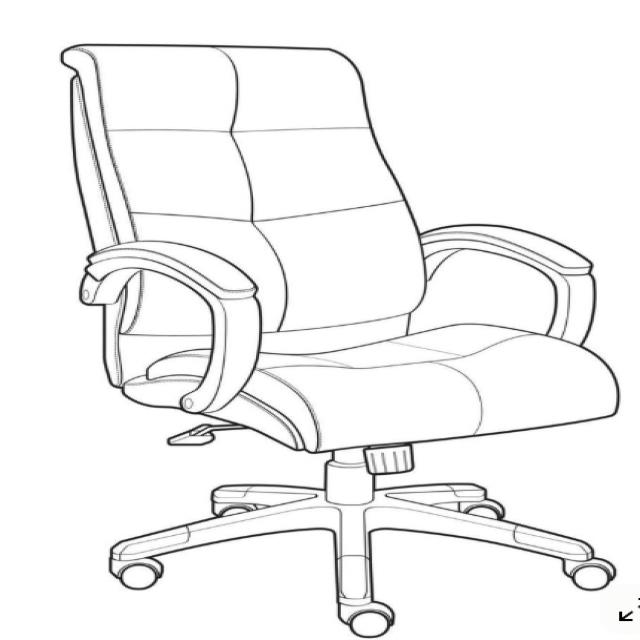5_Star_Base: (101, 473, 624, 638)
Armrest: (74, 236, 267, 418), (418, 221, 602, 351)
Backrest: (58, 41, 430, 390)
Caster_Wheel: (557, 552, 625, 597), (105, 555, 169, 595), (336, 600, 401, 639)
Control_Mechanism: (161, 421, 256, 449)
Seat: (142, 321, 625, 456)
